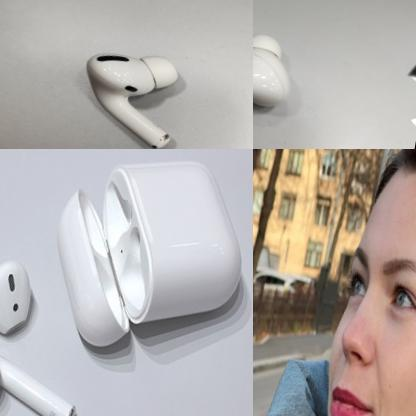Airpods: (57, 36, 219, 149), (0, 240, 58, 375), (253, 3, 312, 121), (0, 337, 87, 416)
